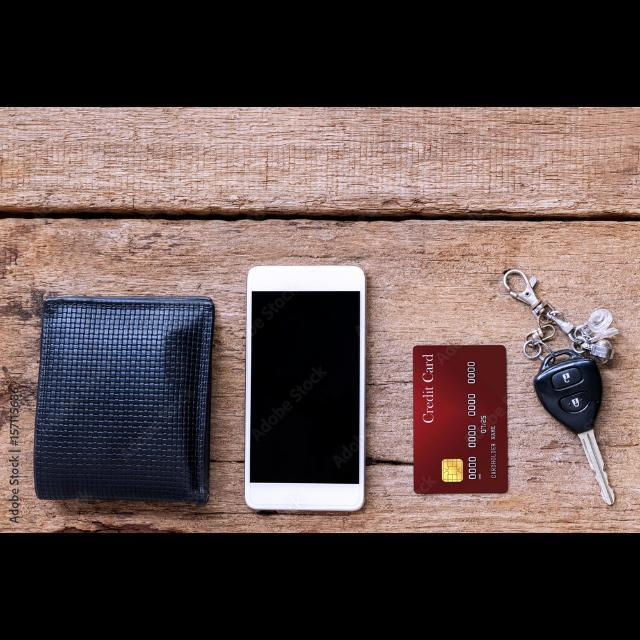wallet: (36, 280, 212, 522)
